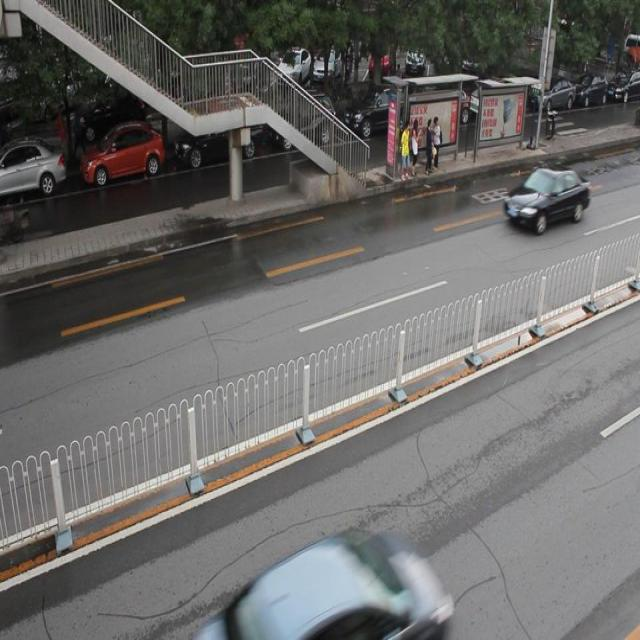car: (211, 532, 448, 640), (172, 97, 263, 164), (504, 165, 590, 232), (80, 123, 164, 182), (342, 79, 413, 141), (270, 89, 334, 150), (1, 137, 63, 197)
